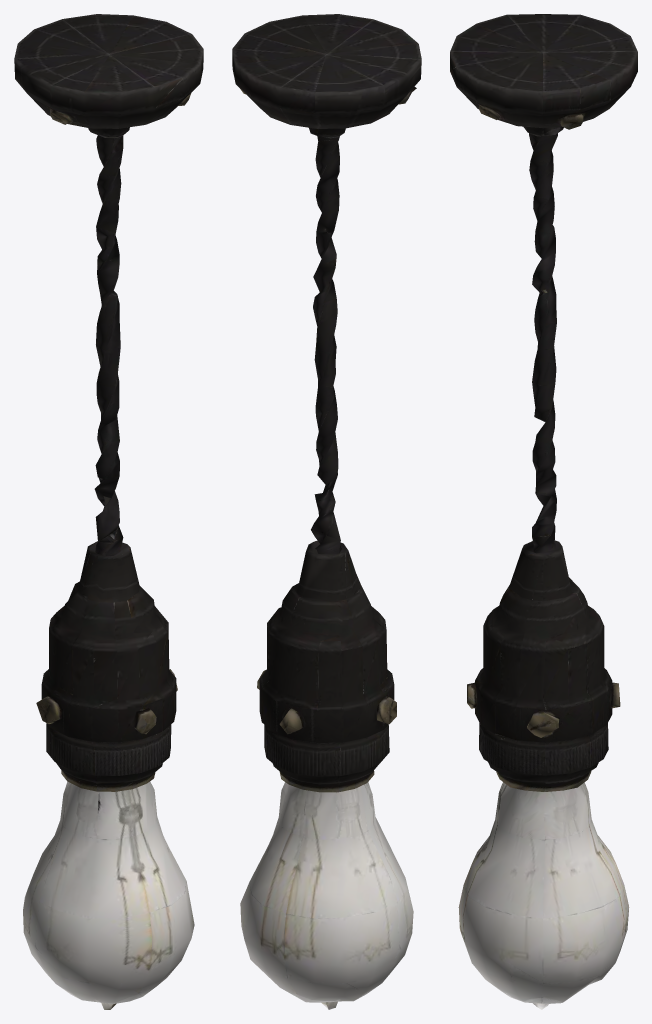
File: hanging_bare_bulb.glb
The picture shows the model from 3 angles, left to right: view 1: azimuth 30°, elevation 25°; view 2: azimuth 150°, elevation 25°; view 3: azimuth 270°, elevation 25°; orthographic projection.
Parts seen in each view (by area): view 1: Meshy_AI_hanging_bare_bulb_3d_20261028_texture; view 2: Meshy_AI_hanging_bare_bulb_3d_20261028_texture; view 3: Meshy_AI_hanging_bare_bulb_3d_20261028_texture.
Boxes of the visible parts, box(x1,y1,x2,y2) form: Meshy_AI_hanging_bare_bulb_3d_20261028_texture: box(14, 14, 203, 1009); Meshy_AI_hanging_bare_bulb_3d_20261028_texture: box(232, 14, 421, 1009); Meshy_AI_hanging_bare_bulb_3d_20261028_texture: box(450, 14, 637, 1009).
Size of the model in its own units: 0.1449 by 0.8 by 0.142.
1 material, 1 textured.
